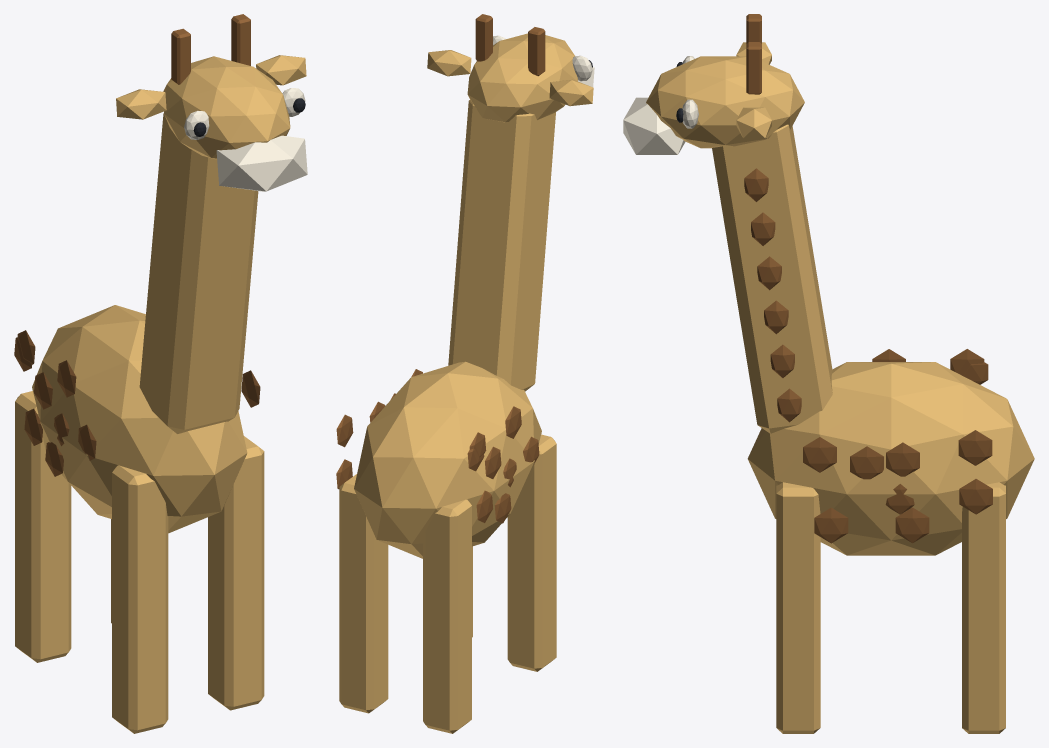
File: ZooGiraffe.fbx
3 renders of one model, left to right at view 1: azimuth 30°, elevation 25°; view 2: azimuth 150°, elevation 25°; view 3: azimuth 270°, elevation 25°, orthographic. The views are drawn at different scales.
Visible parts, largest first — view 1: Neck, GiraffeBody, Leg, Leg.002, Leg.001, Head, Muzzle, Ear, Ear.001, Ossicone, Ossicone.001, BodySpot.009 (+3 smaller); view 2: Neck, GiraffeBody, Leg.001, Leg.003, Leg, Head, Ear.001, Ear, Ossicone, Ossicone.001; view 3: GiraffeBody, Neck, Leg.002, Leg.003, Head, Muzzle, Ear.001, BodySpot.011, BodySpot.012, BodySpot.015, BodySpot.008, BodySpot.009 (+3 smaller).
Part boxes in pixels (x1,y1,x2,y2): Neck: (139, 113, 258, 433); GiraffeBody: (32, 305, 247, 533); Leg: (112, 465, 168, 733); Leg.002: (208, 436, 264, 710); Leg.001: (15, 391, 71, 662); Head: (163, 56, 290, 159); Muzzle: (216, 135, 307, 191); Ear: (116, 89, 166, 119); Ear.001: (256, 55, 306, 85); Ossicone: (171, 28, 190, 84); Ossicone.001: (231, 14, 250, 65); BodySpot.009: (241, 370, 260, 407); Neck: (448, 100, 555, 391); GiraffeBody: (354, 361, 541, 558); Leg.001: (423, 499, 471, 733); Leg.003: (339, 474, 388, 713); Leg: (507, 434, 556, 671); Head: (467, 33, 577, 122); Ear.001: (427, 50, 471, 76); Ear: (549, 79, 593, 106); Ossicone: (528, 27, 545, 76); Ossicone.001: (475, 14, 492, 61); GiraffeBody: (747, 362, 1034, 555); Neck: (712, 124, 832, 433); Leg.002: (776, 482, 820, 733); Leg.003: (962, 482, 1005, 733); Head: (646, 56, 804, 148); Muzzle: (623, 97, 685, 154); Ear.001: (736, 107, 771, 138); BodySpot.011: (958, 430, 992, 465); BodySpot.012: (814, 507, 848, 543); BodySpot.015: (895, 507, 929, 543); BodySpot.008: (959, 479, 992, 514); BodySpot.009: (803, 437, 836, 472).
Bounding box in the file's own units: 94.15 × 337 × 186.
